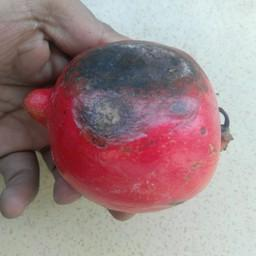Bad_pomegranate: (27, 40, 231, 214)
